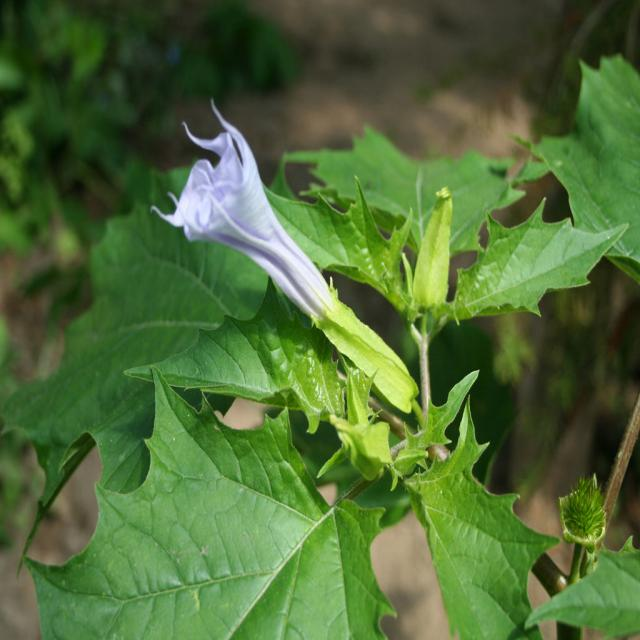Poisonous-Datura_Stramonium: (159, 98, 467, 513), (38, 469, 640, 640), (482, 53, 640, 341)
